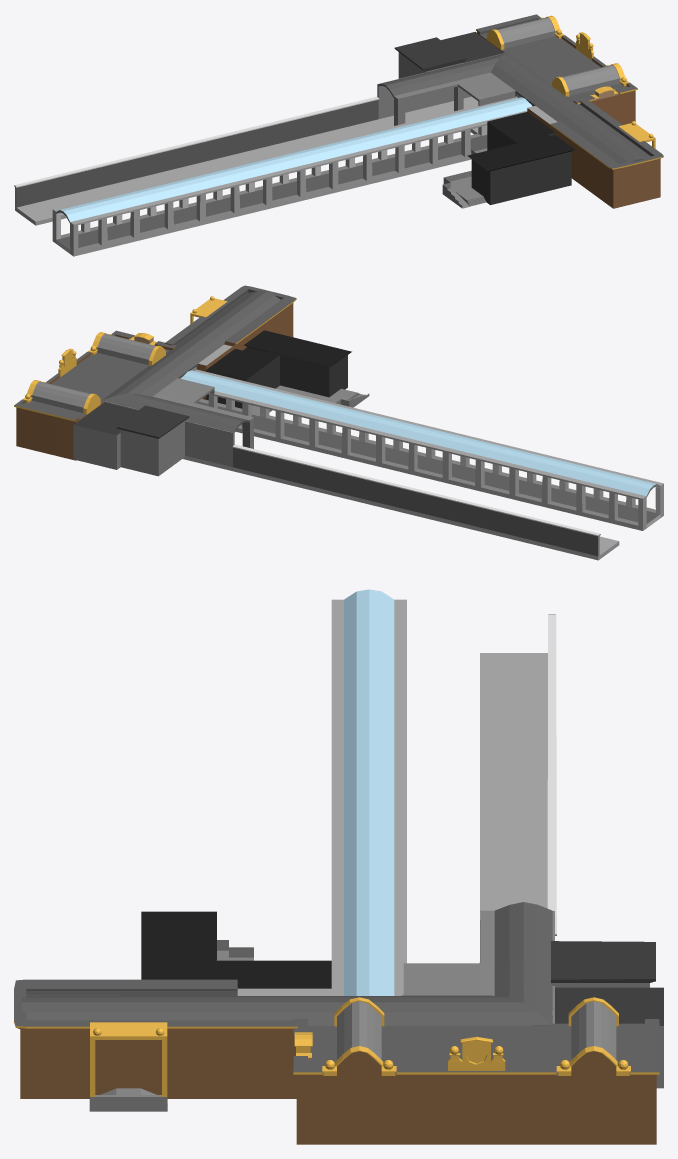
File: stationsgebouw.fbx
3 views of the same model, one above another, from view 1: azimuth 30°, elevation 25°; view 2: azimuth 150°, elevation 25°; view 3: azimuth 270°, elevation 25° (orthographic). The views are drawn at different scales.
Parts seen in each view (by area): view 1: Cube.007; view 2: Cube.007; view 3: Cube.007.
Part boxes in pixels (x1,y1,x2,y2): Cube.007: (14,14,663,256); Cube.007: (14,285,663,560); Cube.007: (14,589,663,1144).
Size of the model in its own units: 10293 by 1042 by 5788.
1 material, 1 textured.
